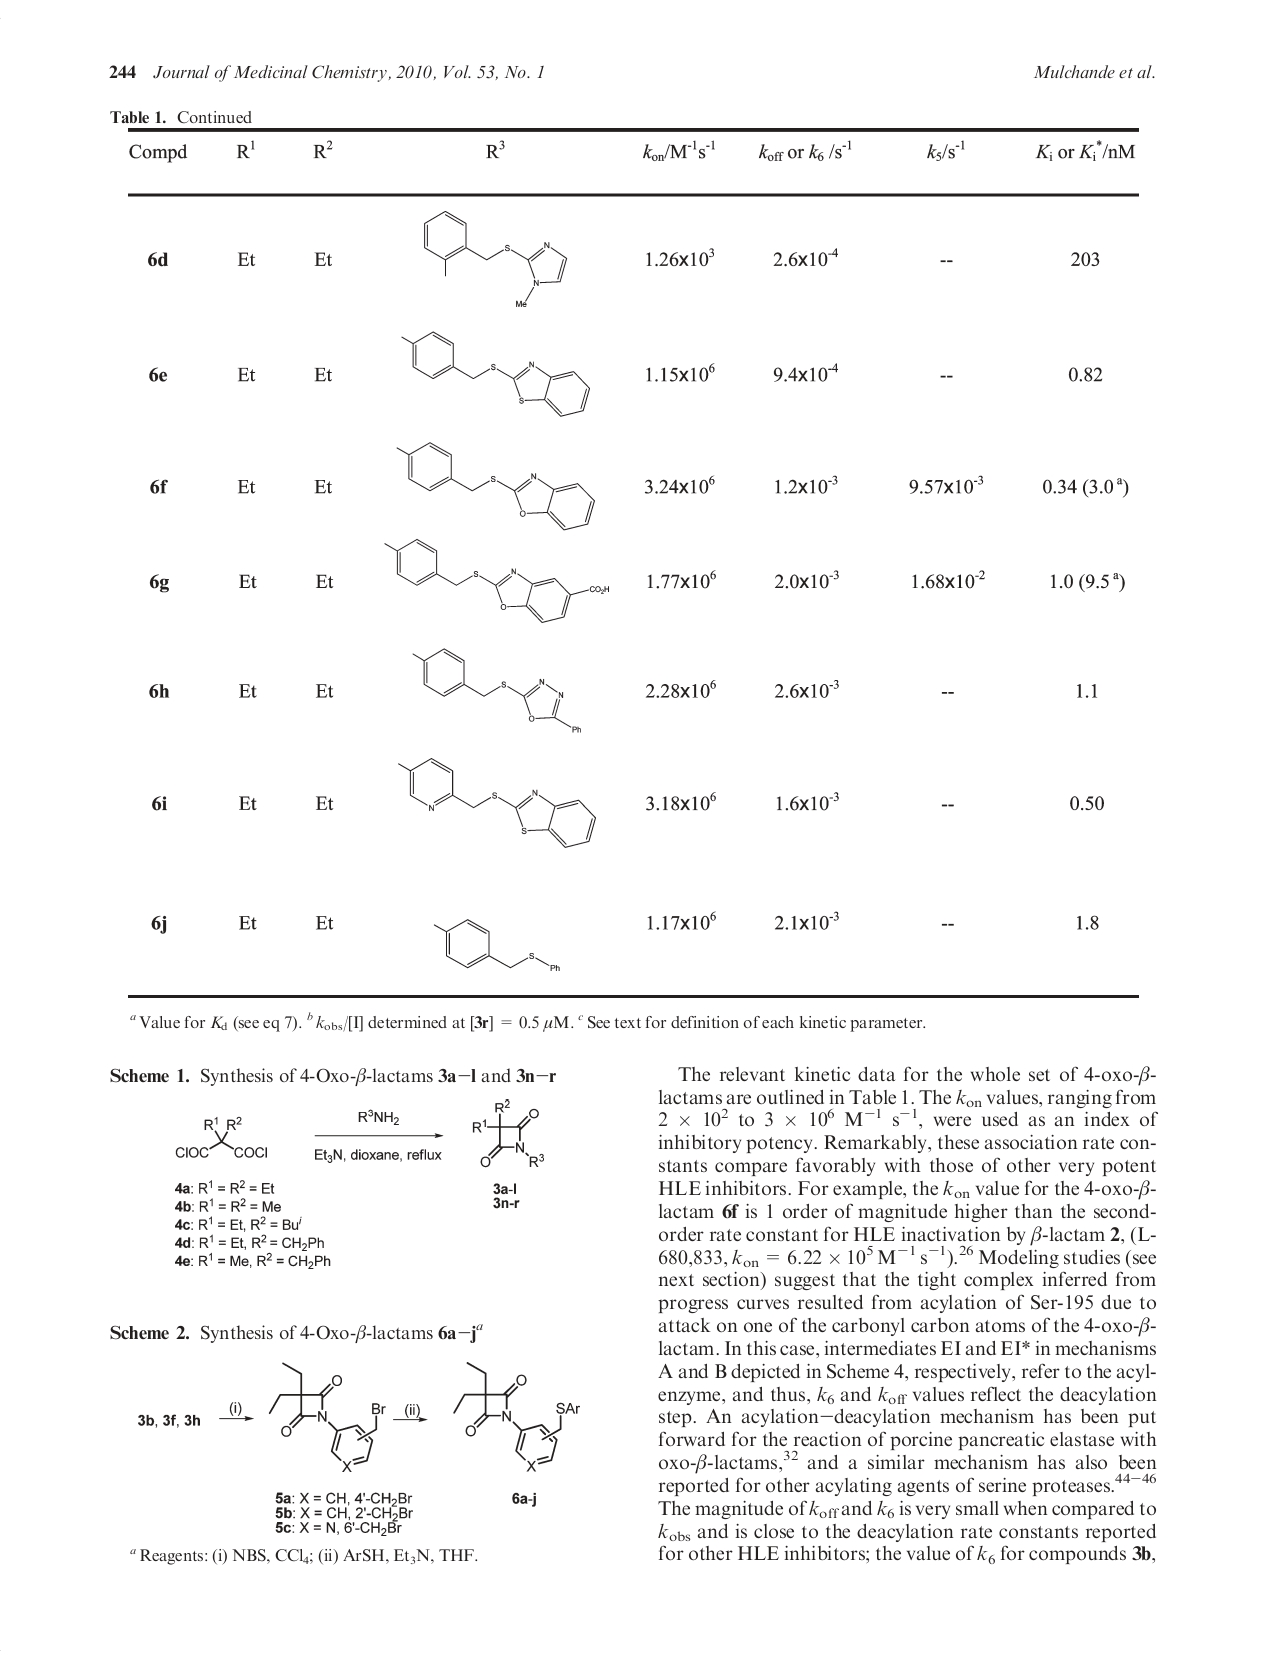exist_molecular: (382, 536, 610, 625), (395, 757, 596, 850), (395, 439, 596, 531), (399, 327, 590, 418), (410, 645, 586, 735), (422, 207, 568, 309), (453, 1358, 582, 1472), (269, 1362, 387, 1472), (432, 916, 564, 975), (471, 1098, 547, 1168), (173, 1112, 273, 1161)
